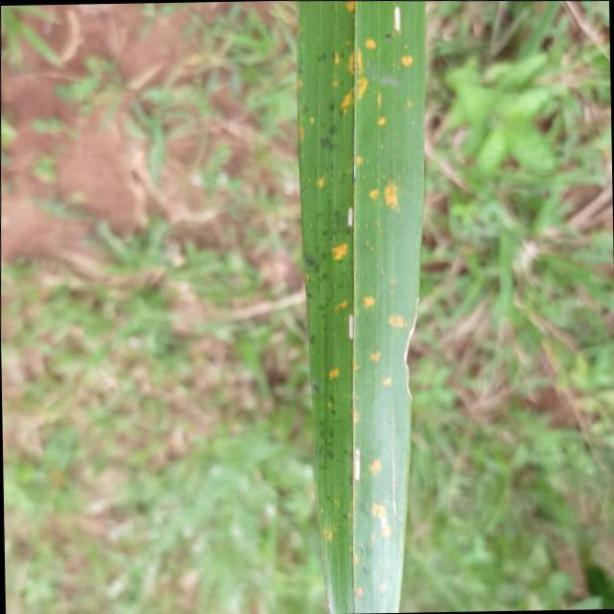Kalium: (288, 0, 425, 614)
